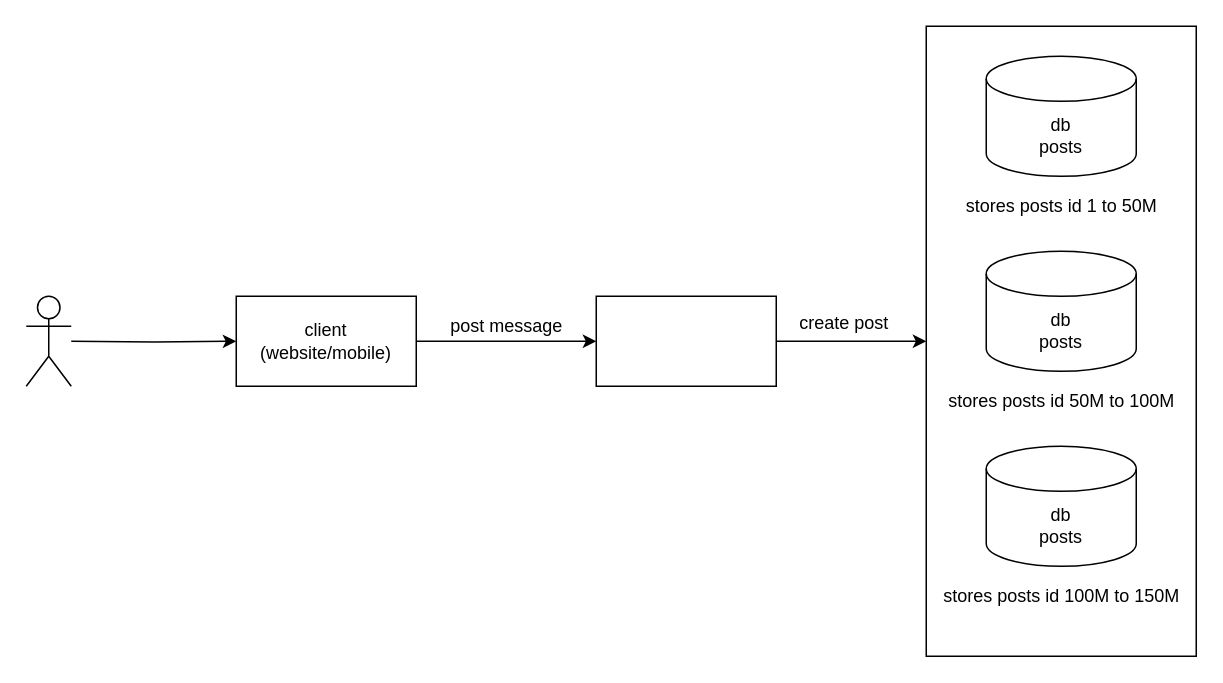
The diagram is 1223 pixels wide and 683 high, and some of its shapes have lost their labels. Here are the shapes that lost their labels. From the top down, the centre of each, then its label:
the point at 48,340: user
the point at 685,340: post service
